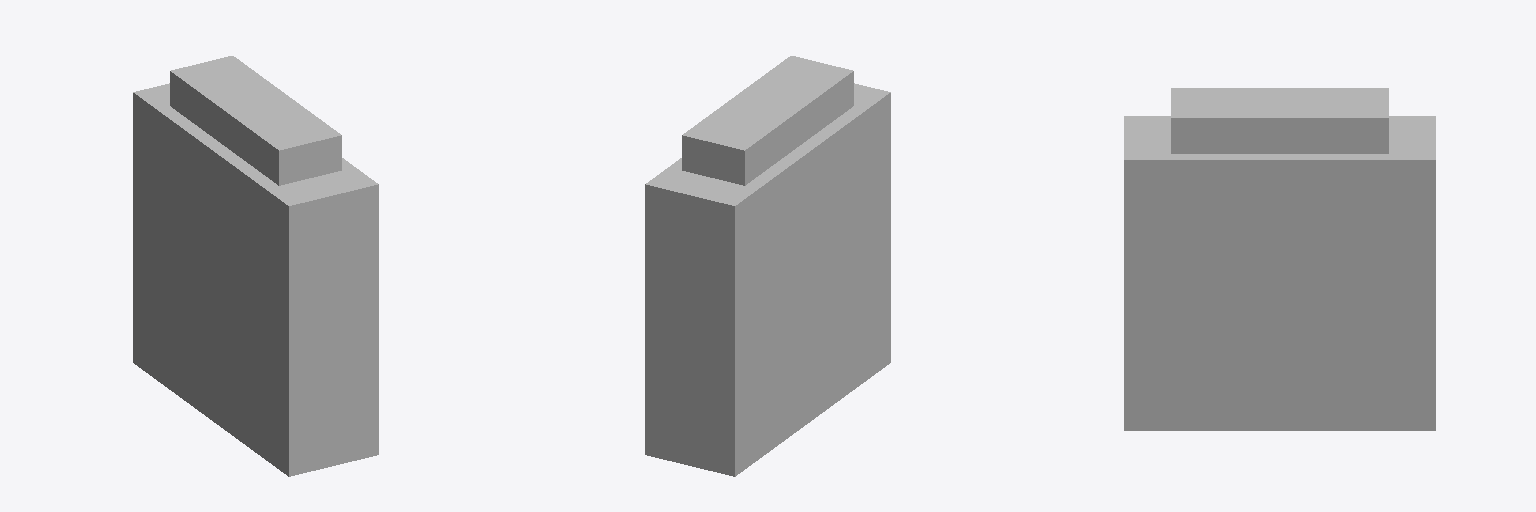
Rendered from SkyScraper3.obj.
The picture shows the model from 3 angles: view 1: azimuth 30°, elevation 25°; view 2: azimuth 150°, elevation 25°; view 3: azimuth 270°, elevation 25°; orthographic projection.
Visible parts, largest first — view 1: Skyscraper3_Plane.008; view 2: Skyscraper3_Plane.008; view 3: Skyscraper3_Plane.008.
Boxes of the visible parts, box(x1,y1,x2,y2) form: Skyscraper3_Plane.008: box(133, 56, 378, 476); Skyscraper3_Plane.008: box(645, 56, 890, 476); Skyscraper3_Plane.008: box(1124, 88, 1435, 430).
Size of the model in its own units: 8 by 26 by 24.